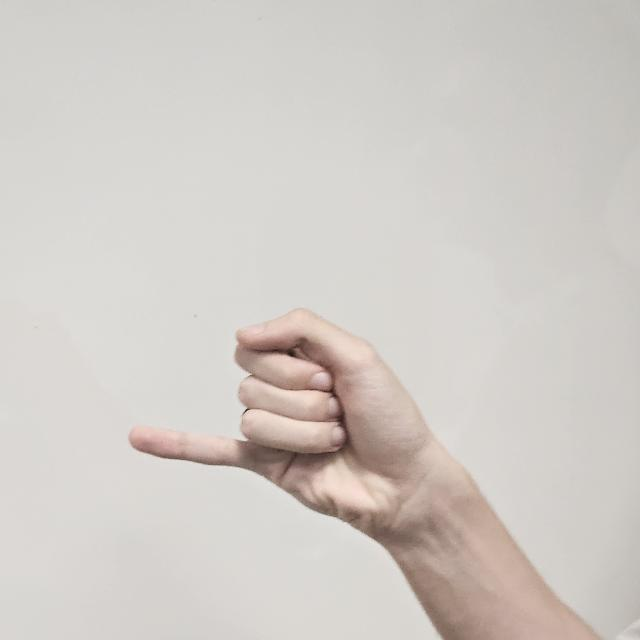Esquerda: (132, 258, 436, 546)
